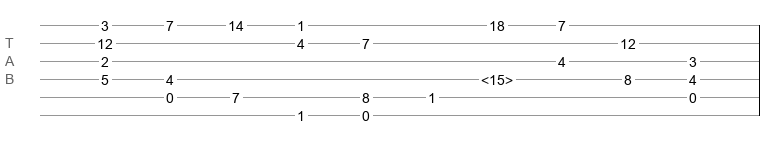0: (166, 90, 174, 100), (362, 108, 370, 118), (689, 90, 697, 100)
1: (297, 108, 305, 118), (297, 18, 305, 28), (428, 90, 436, 100)
12: (97, 36, 113, 46), (620, 36, 636, 46)
14: (228, 18, 244, 28)
18: (489, 18, 505, 28)
2: (101, 54, 109, 64)
3: (101, 18, 109, 28), (689, 54, 697, 64)
4: (166, 72, 174, 82), (297, 36, 305, 46), (558, 54, 566, 64), (689, 72, 697, 82)
5: (101, 72, 109, 82)
7: (166, 18, 174, 28), (232, 90, 240, 100), (362, 36, 370, 46), (558, 18, 566, 28)
8: (362, 90, 370, 100), (624, 72, 632, 82)
harmonic: (481, 72, 513, 82)
